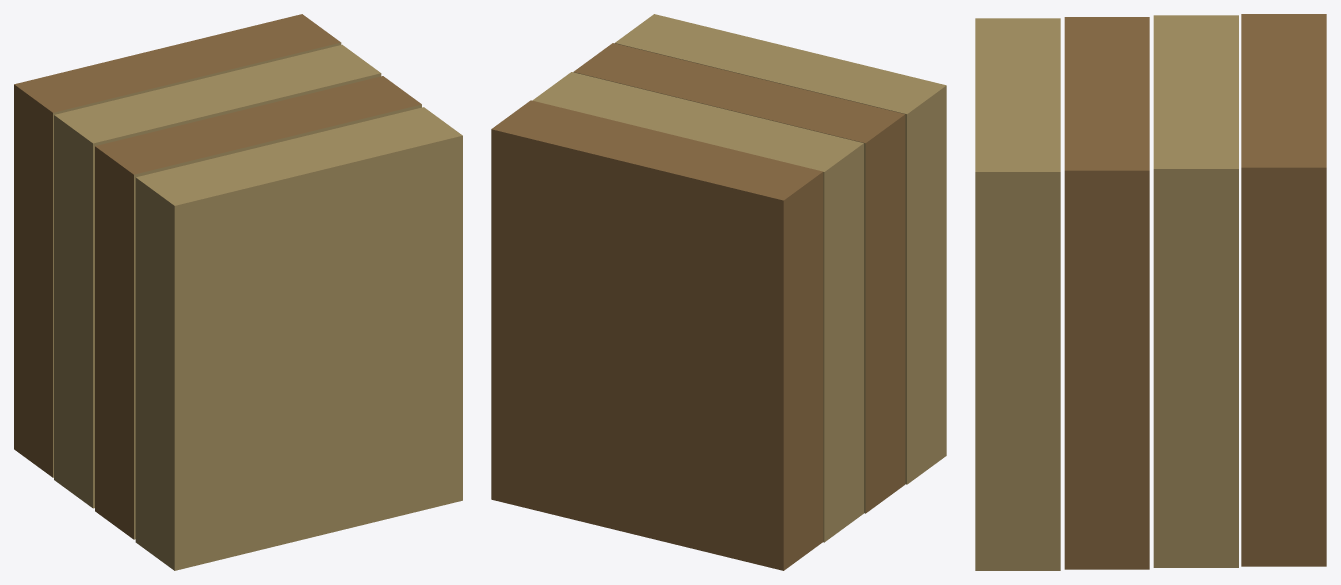
The model's file is wood_planks.fbx.
3 views of the same model, side by side, from view 1: azimuth 30°, elevation 25°; view 2: azimuth 150°, elevation 25°; view 3: azimuth 270°, elevation 25° (orthographic). The views are drawn at different scales.
Visible parts, largest first — view 1: Cube; view 2: Cube; view 3: Cube.
Part boxes in pixels (box(x1,y1,x2,y2)): Cube: box(14, 14, 462, 570); Cube: box(491, 14, 946, 570); Cube: box(975, 14, 1326, 570).
Size of the model in its own units: 55.19 by 67.53 by 53.28.
